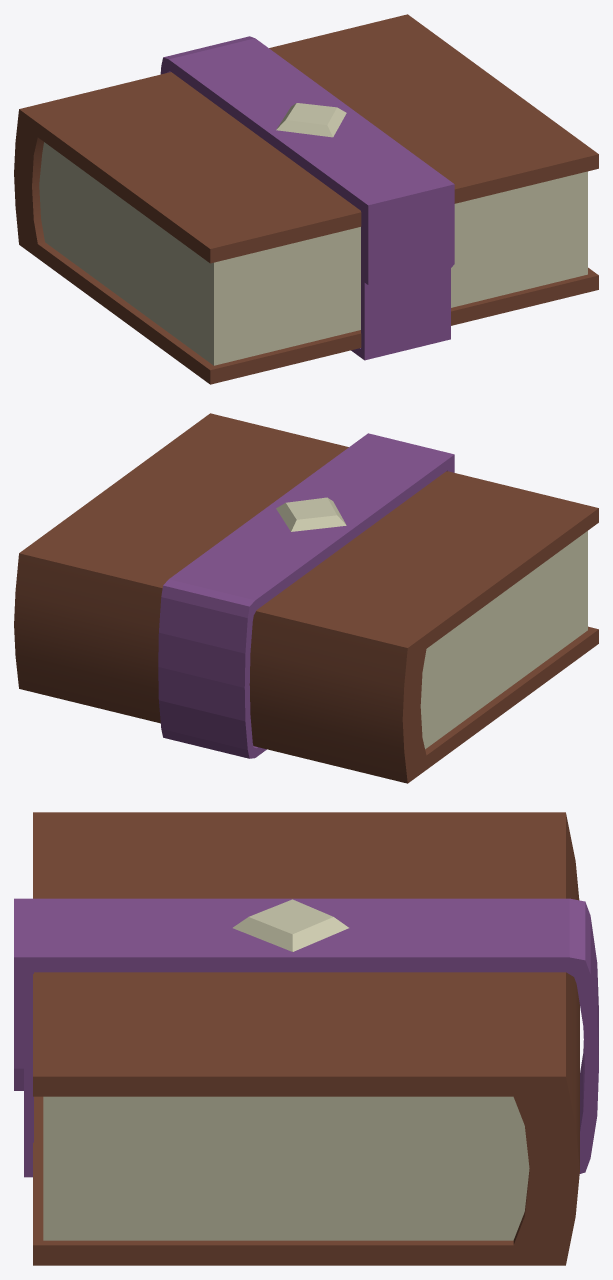
The model's file is LP_P_Book1FIXED.fbx.
The picture shows the model from 3 angles, top to bottom: view 1: azimuth 30°, elevation 25°; view 2: azimuth 150°, elevation 25°; view 3: azimuth 270°, elevation 25°; orthographic projection. The views are drawn at different scales.
Visible parts, largest first — view 1: BookCover_001, Strip_001; view 2: BookCover_001, Strip_001; view 3: BookCover_001, Strip_001.
Boxes of the visible parts, x1,y1,x2,y2 form: BookCover_001: (14,14,598,384); Strip_001: (160,36,454,360); BookCover_001: (14,413,598,783); Strip_001: (158,433,454,758); BookCover_001: (33,812,579,1265); Strip_001: (14,898,598,1177).
Bounding box in the file's own units: 30 × 12.22 × 28.07.
